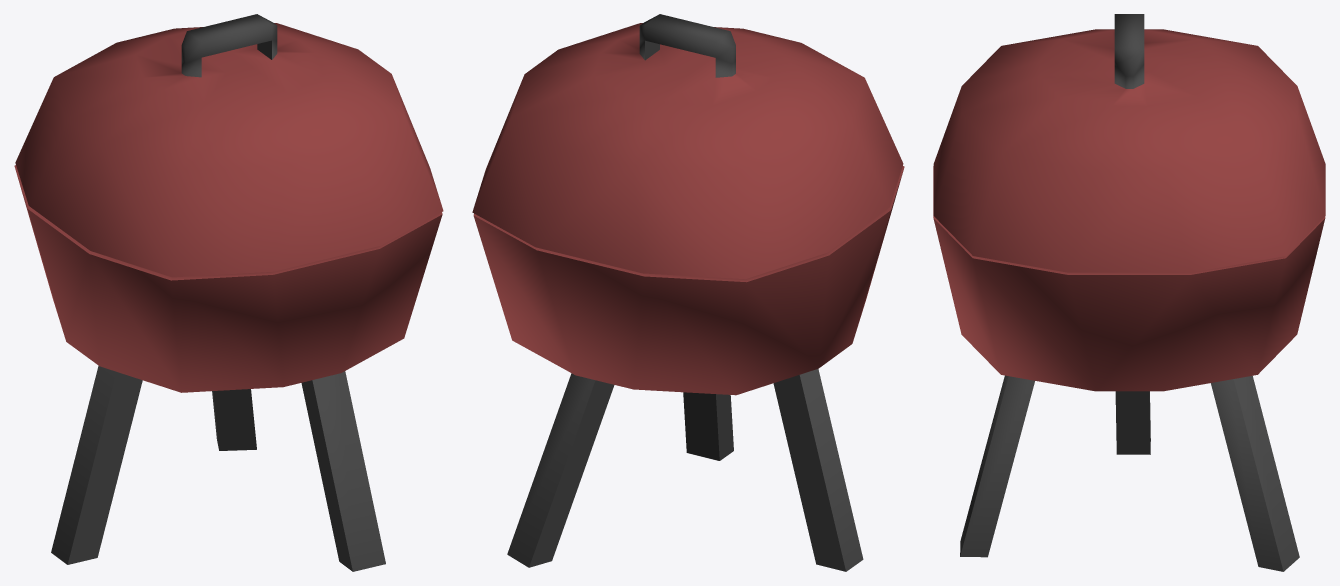
Rendered from BBQHandHeld.fbx.
3 renders of one model, left to right at view 1: azimuth 30°, elevation 25°; view 2: azimuth 150°, elevation 25°; view 3: azimuth 270°, elevation 25°, orthographic.
Parts seen in each view (by area): view 1: Lid, BBQ; view 2: Lid, BBQ; view 3: Lid, BBQ.
Boxes of the visible parts, <box> form: Lid: <box>15,14,443,277</box>; BBQ: <box>14,165,442,571</box>; Lid: <box>472,14,903,279</box>; BBQ: <box>473,166,904,571</box>; Lid: <box>933,14,1325,272</box>; BBQ: <box>933,166,1325,571</box>.
Size of the model in its own units: 0.7366 by 1.01 by 0.7347.
